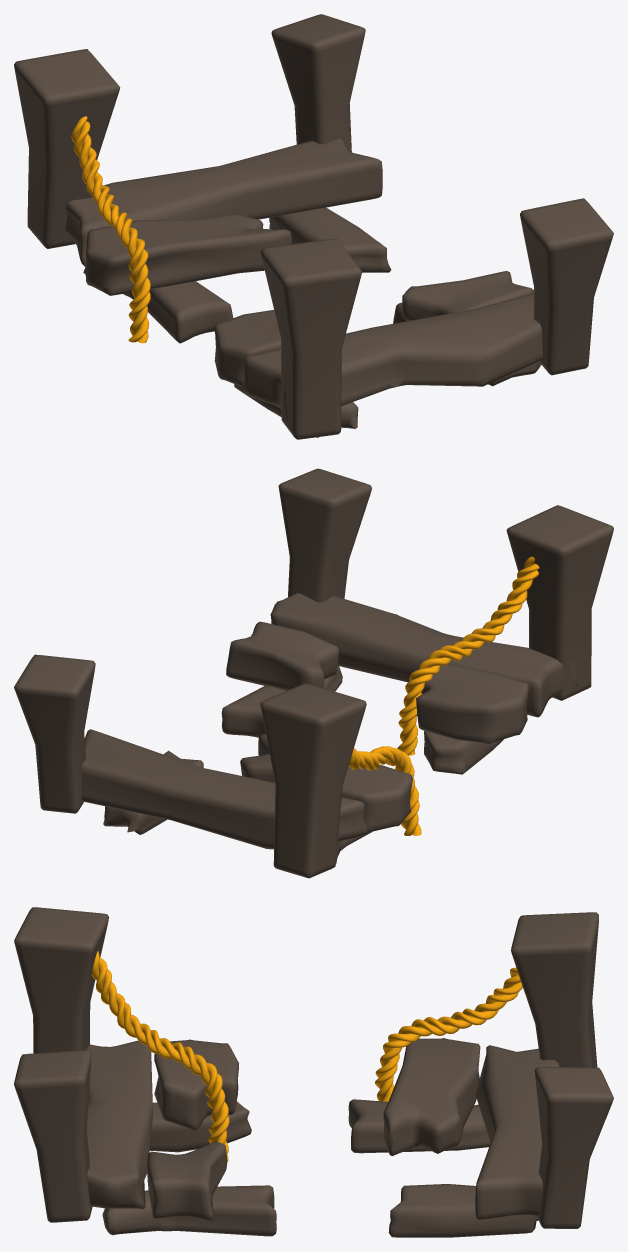
The model's file is Tile_Broken_Bridge.fbx.
3 renders of one model, top to bottom at view 1: azimuth 30°, elevation 25°; view 2: azimuth 150°, elevation 25°; view 3: azimuth 270°, elevation 25°, orthographic. The views are drawn at different scales.
Visible parts, largest first — view 1: Cube.031; view 2: Cube.031; view 3: Cube.031.
Boxes of the visible parts, x1,y1,x2,y2 form: Cube.031: (14,14,613,439); Cube.031: (14,468,613,878); Cube.031: (14,907,613,1237).
Size of the model in its own units: 132 by 75.45 by 201.
Materials: 1 (1 with a texture image).
